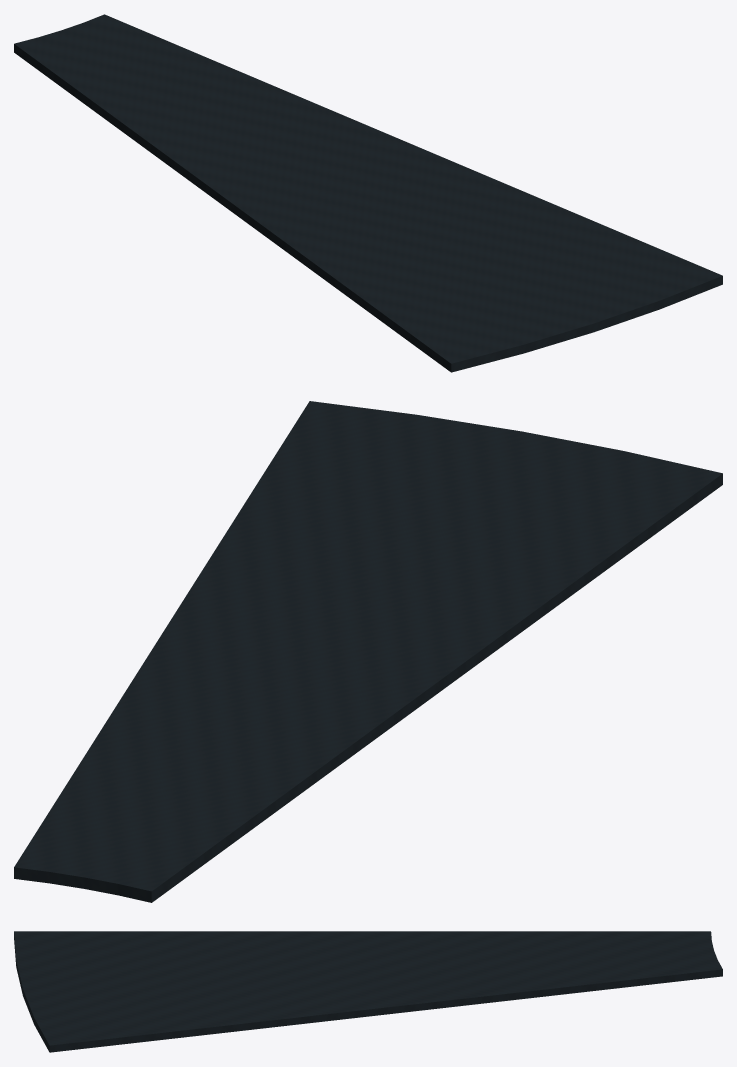
Rendered from Transit_Road_6L_Curve15_R18_Surface.glb.
The picture shows the model from 3 angles, top to bottom: view 1: azimuth 30°, elevation 25°; view 2: azimuth 150°, elevation 25°; view 3: azimuth 270°, elevation 25°; orthographic projection. The views are drawn at different scales.
Visible parts, largest first — view 1: Transit_Road_6L_Curve15_R18_Surface; view 2: Transit_Road_6L_Curve15_R18_Surface; view 3: Transit_Road_6L_Curve15_R18_Surface.
Part boxes in pixels (x1,y1,x2,y2): Transit_Road_6L_Curve15_R18_Surface: (14, 14, 722, 372); Transit_Road_6L_Curve15_R18_Surface: (14, 401, 722, 902); Transit_Road_6L_Curve15_R18_Surface: (14, 931, 722, 1052).
Bounding box in the file's own units: 6.99 × 0.2 × 18.31.
1 material, 1 textured.
